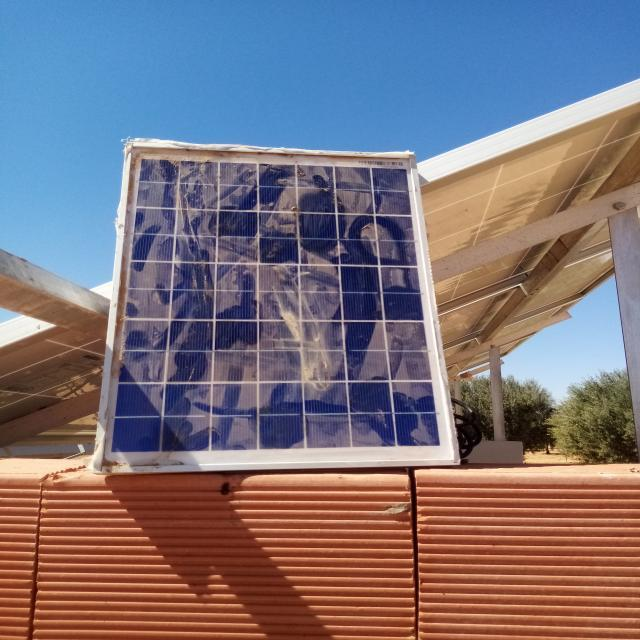faulty: (98, 143, 457, 470)
